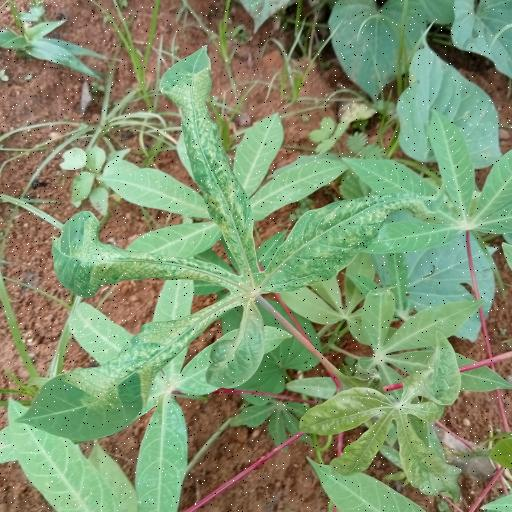Cassava_Mosaic: (31, 60, 397, 437)
